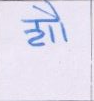au_matra: (36, 1, 73, 42)
